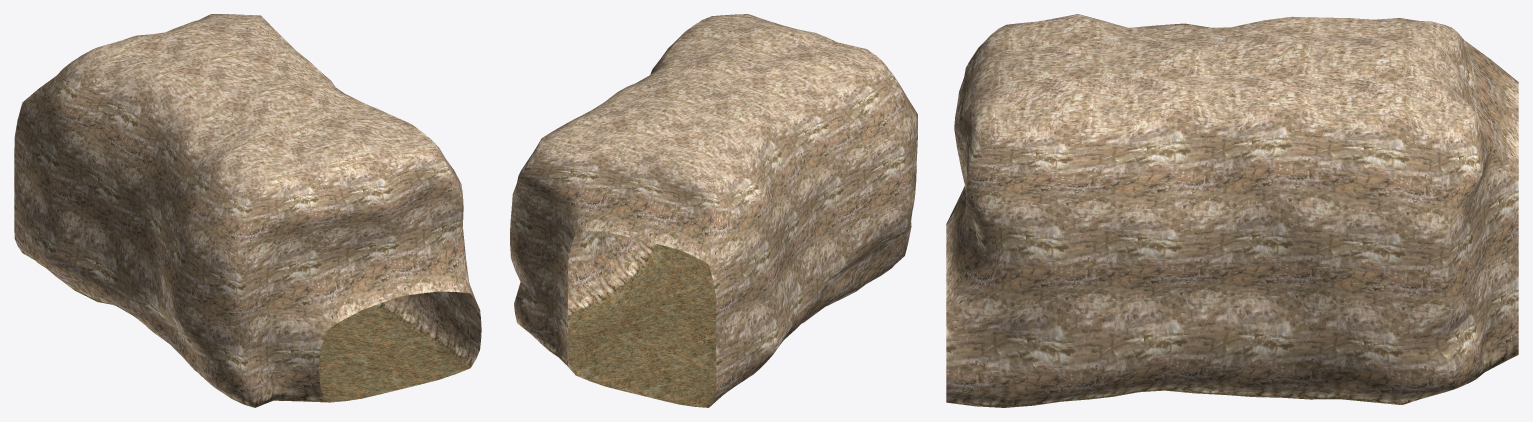
Rendered from thm_all_cave_s03_r10_mesh_r10.fbx.
3 renders of one model, left to right at view 1: azimuth 30°, elevation 25°; view 2: azimuth 150°, elevation 25°; view 3: azimuth 270°, elevation 25°, orthographic. The views are drawn at different scales.
Visible parts, largest first — view 1: mesh_node; view 2: mesh_node; view 3: mesh_node.
Boxes of the visible parts, x1,y1,x2,y2 form: mesh_node: (14,14,481,407); mesh_node: (510,14,917,407); mesh_node: (946,14,1518,407).
Bounding box in the file's own units: 27.52 × 23.69 × 40.81.
